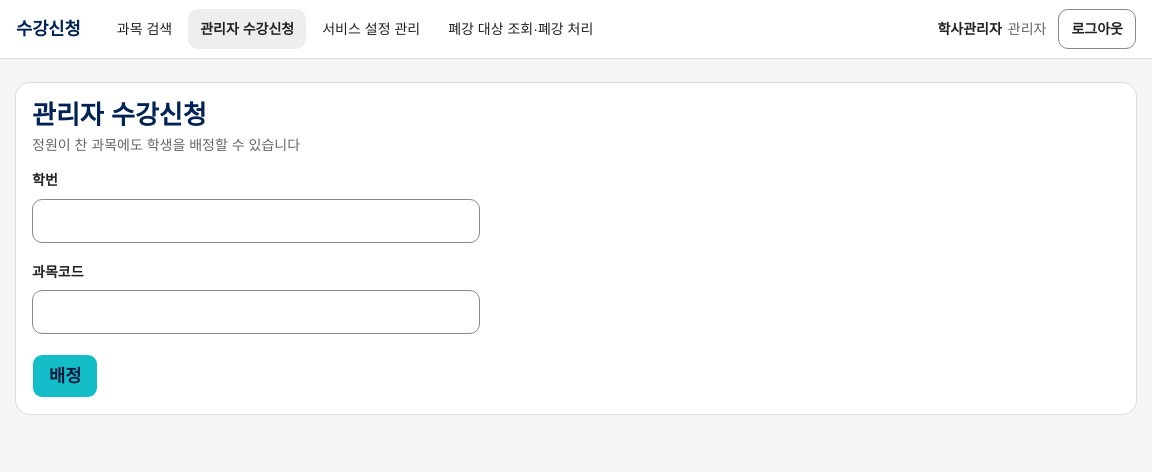
it: T2-12 20260002 HIS1002 배정 오류
Type "20260002" into the field labelled "학번" at (256, 221), box left=32, top=199, right=480, bottom=243
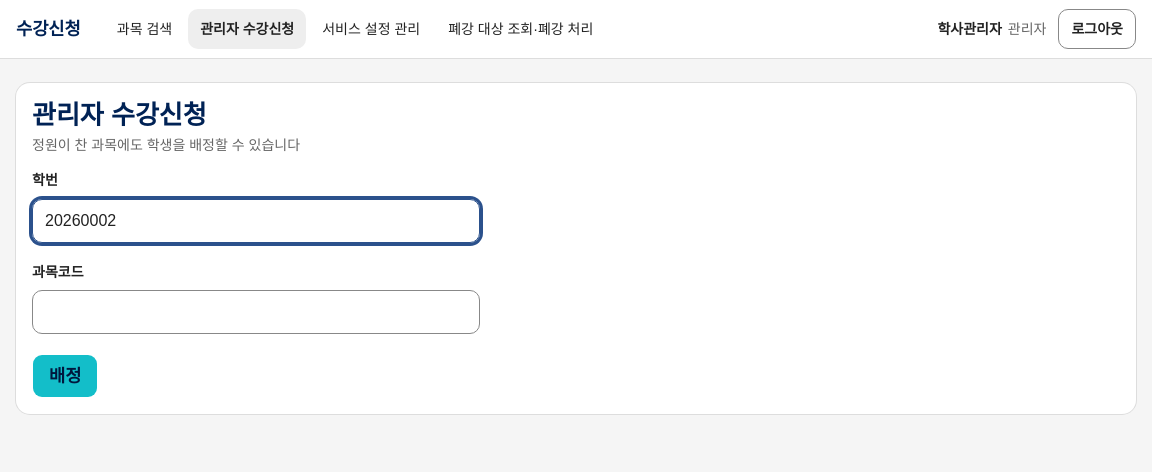
Type "HIS1002" into the field labelled "과목코드" at (256, 312), box left=32, top=290, right=480, bottom=334
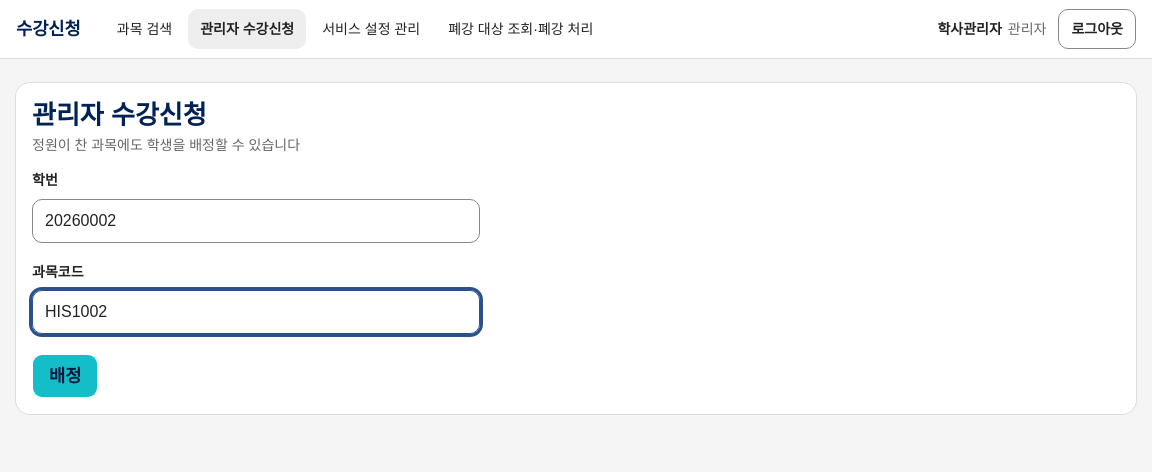
Click the button "배정" at (65, 376), box left=32, top=354, right=98, bottom=398
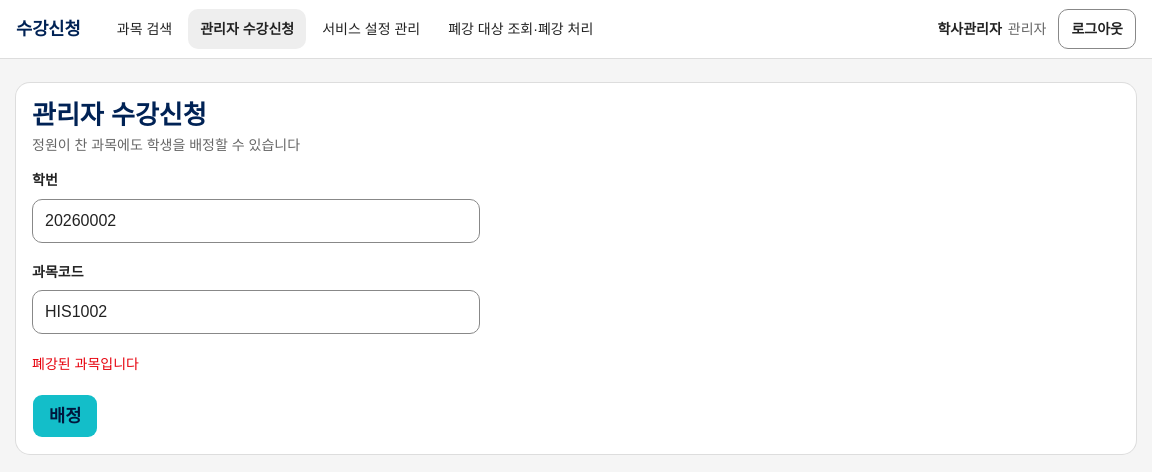
Expected: the text "폐강된 과목입니다" is shown, left=32, top=356, right=139, bottom=372
